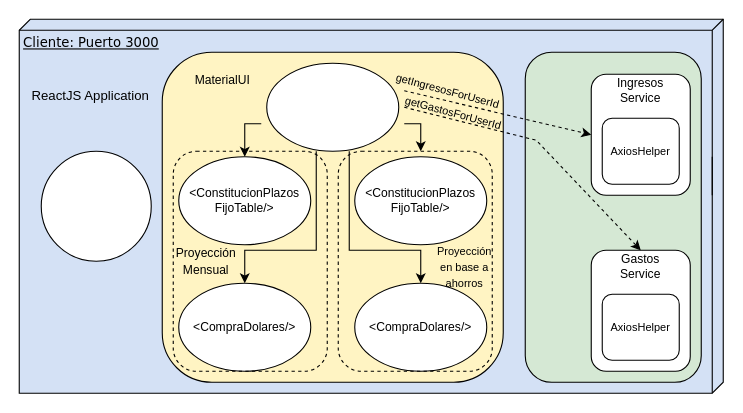
The diagram is 743 pixels wide and 413 high, and some of its shapes have lost their labels. The shapes that lost their labels are listed below. From the top down, each one's centre as x and y in pixels, then its label:
At (x=332, y=106): "<OpcionesSimulator/>".
At (x=95, y=205): "App Path: /opciones".
